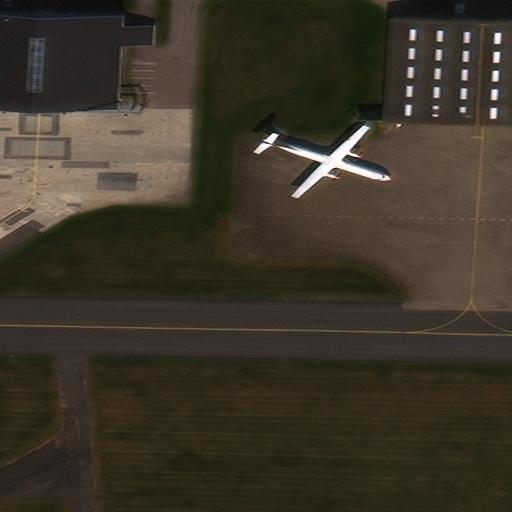Medium Civil Transport: (258, 126, 392, 199)
